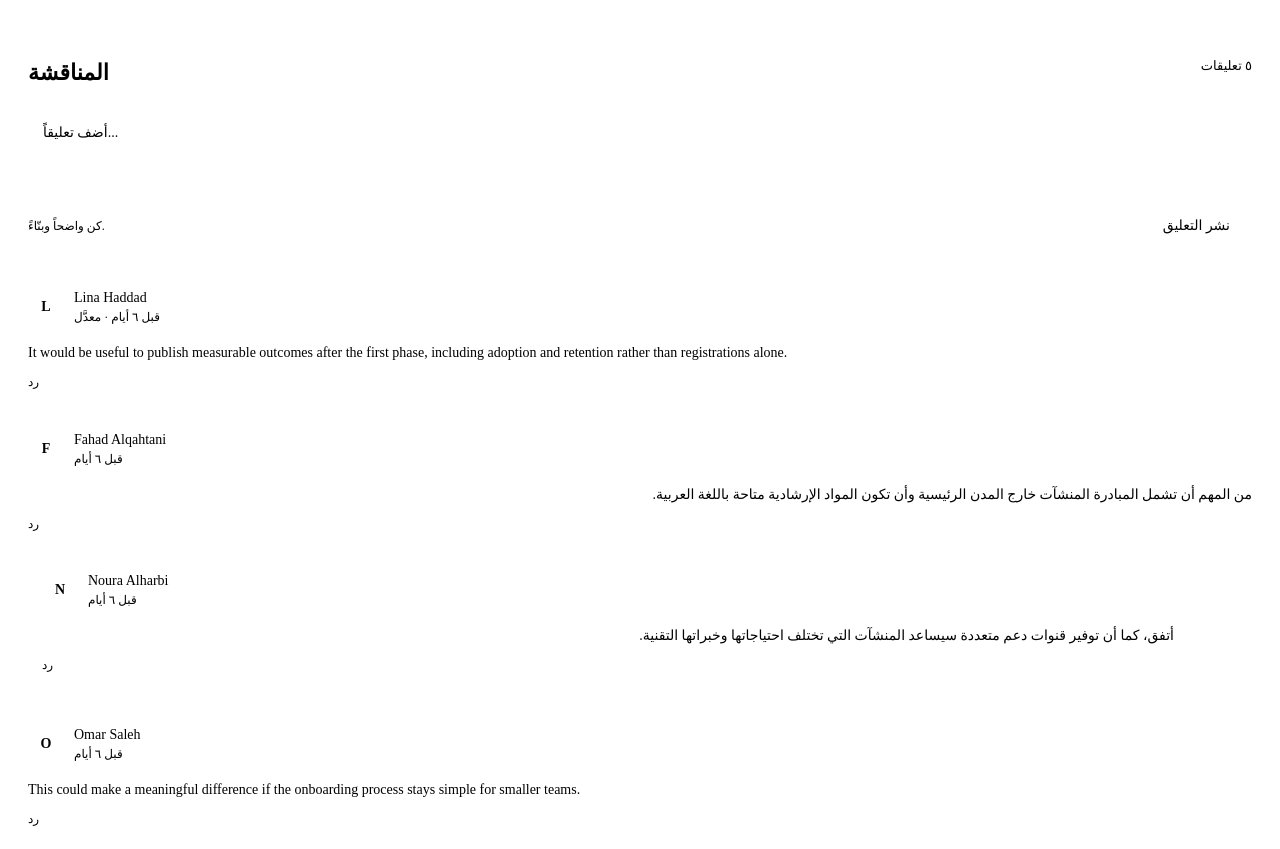
<Discussion> (web) › is fully translated in Arabic, with Arabic plural forms (I-1, I-4)
This screenshot has width=1280, height=849.
Expected: the text "٥ تعليقات" is shown, [1201,57,1252,75]
Expected: the heading "المناقشة" is shown, [28,57,109,89]
Type "تعليق تجريبي" into the text box named "أضف تعليقًا".
click(640, 151); type("تعليق تجريبي")  # box [28,109,1252,193]
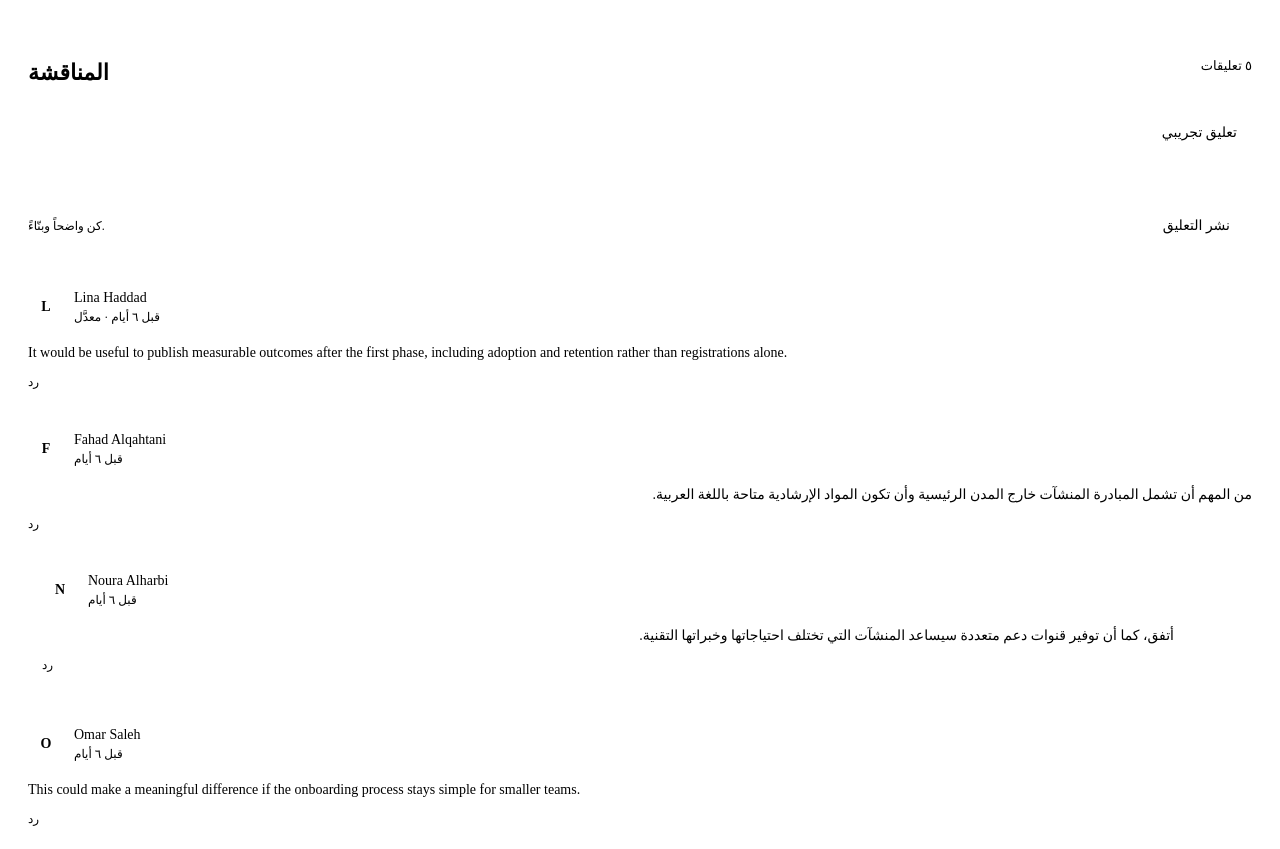
Click the button "نشر التعليق".
click(1196, 226)  # box [1141,204,1252,248]
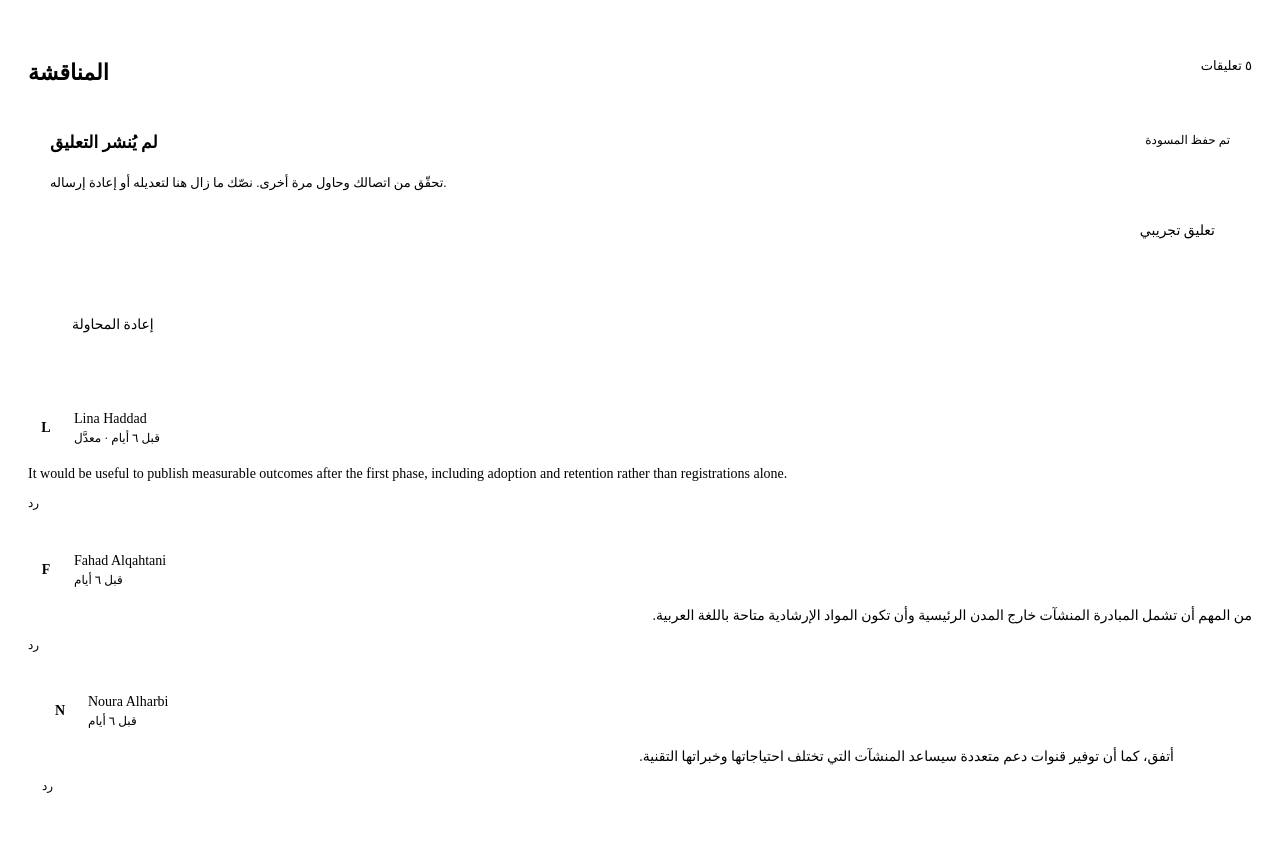
Expected: the message shows "لم يُنشر التعليق", [50,133,158,152]
Expected: the button "إعادة المحاولة" is shown, [50,303,176,347]
